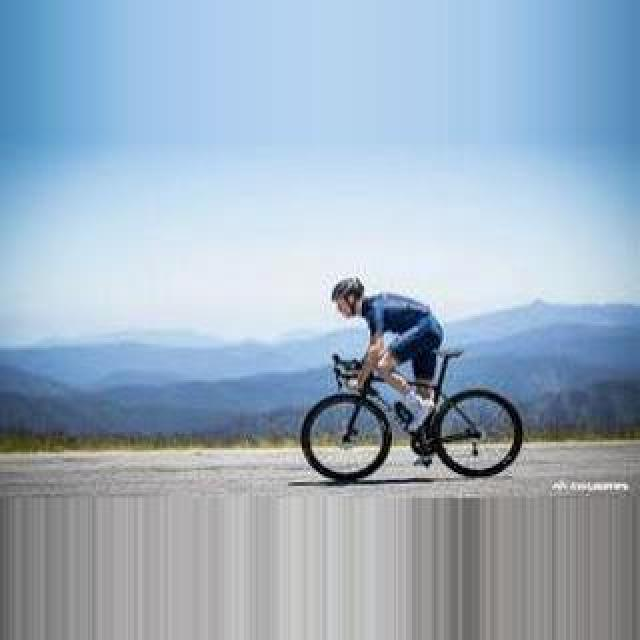MC-Bike: (330, 278, 446, 442)
Person: (298, 343, 524, 481)
